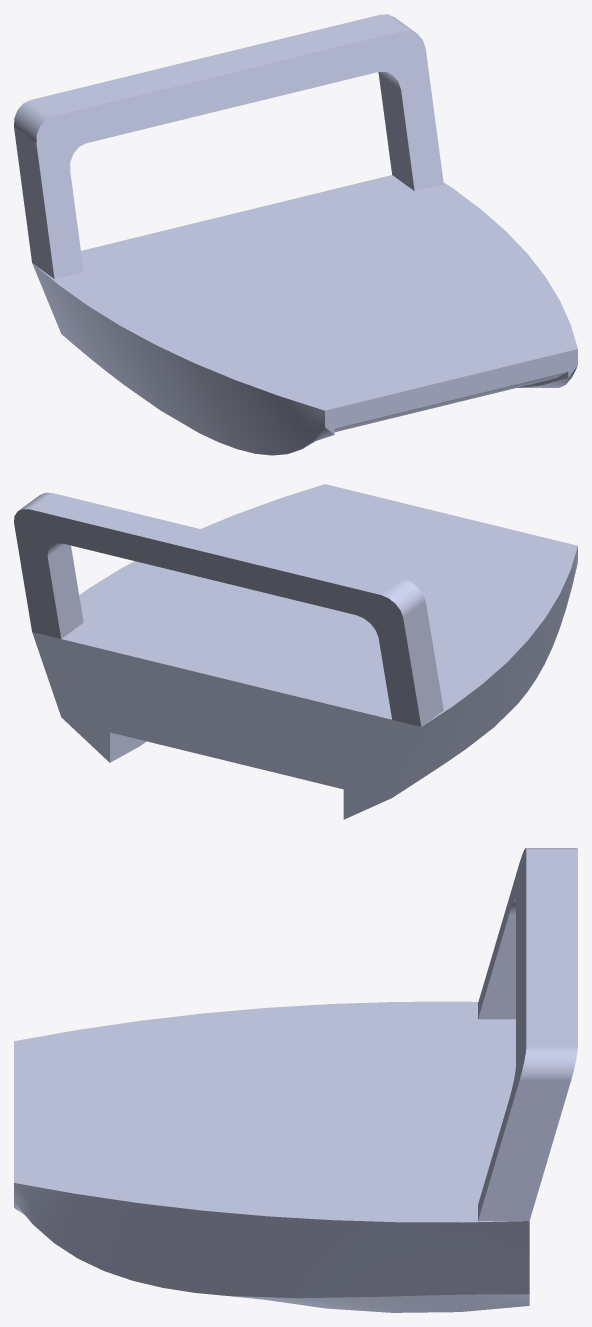
Rendered from catamaran.obj.
The picture shows the model from 3 angles, top to bottom: view 1: azimuth 30°, elevation 25°; view 2: azimuth 150°, elevation 25°; view 3: azimuth 270°, elevation 25°; orthographic projection. The views are drawn at different scales.
Parts seen in each view (by area): view 1: Solid1; view 2: Solid1; view 3: Solid1.
Boxes of the visible parts, x1=… form: Solid1: x1=14, y1=14, x2=577, y2=455; Solid1: x1=14, y1=484, x2=577, y2=819; Solid1: x1=14, y1=848, x2=577, y2=1312.
Bounding box in the file's own units: 2027 × 1280 × 2188.
